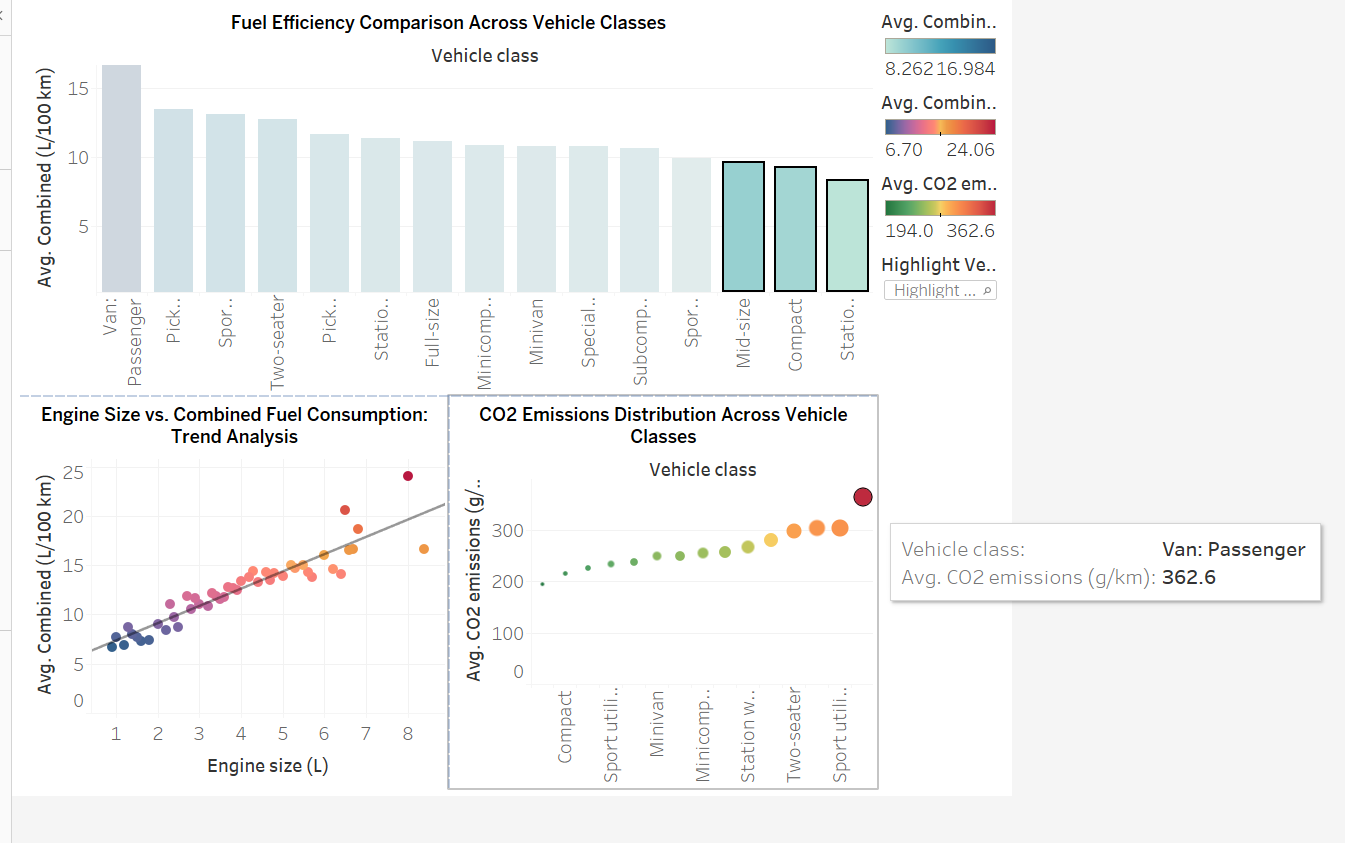

The dashboard page shown, as its layout file describes it:
{"tool":"tableau","page":{"name":"Dashboard 2","canvas":[1000,800],"ordinal":1},"visuals":[{"type":"worksheet","title":"ClassVsFuel","mark":"Automatic","rows":["Combined (L/100 km)"],"cols":["Vehicle class"],"box":[8,8,857,392]},{"type":"legend","title":"ClassVsFuel","param":"[federated.181tqhu1eriod412tfh271ls9q2b].[avg:Combined (L/100 km):qk]","box":[865,8,127,81]},{"type":"legend","title":"EsizeVsFuel","param":"[federated.181tqhu1eriod412tfh271ls9q2b].[avg:Combined (L/100 km):qk]","box":[865,89,127,81]},{"type":"legend","title":"ClassVsCo2","param":"[federated.181tqhu1eriod412tfh271ls9q2b].[avg:CO2 emissions (g/km):qk]","box":[865,170,127,81]},{"type":"highlighter","title":"ClassVsFuel","param":"[federated.181tqhu1eriod412tfh271ls9q2b].[none:Vehicle class:nk]","box":[865,251,127,60]},{"type":"worksheet","title":"EsizeVsFuel","mark":"Circle","rows":["Combined (L/100 km)"],"cols":["Engine size (L)"],"box":[8,400,428.5,392]},{"type":"worksheet","title":"ClassVsCo2","mark":"Circle","rows":["CO2 emissions (g/km)"],"cols":["Vehicle class"],"box":[436.5,400,428.5,392]}]}

Visuals, with their boxes on the page's 1000x800 design canvas (x1, y1, x2, y2). These are canvas units, not pixel positions in the 1345x843 screenshot, which may show the page scaled, cropped or inside an application window:
"ClassVsFuel" worksheet: <box>8,8,865,400</box>
"ClassVsFuel" legend: <box>865,8,992,89</box>
"EsizeVsFuel" legend: <box>865,89,992,170</box>
"ClassVsCo2" legend: <box>865,170,992,251</box>
"ClassVsFuel" highlighter: <box>865,251,992,311</box>
"EsizeVsFuel" worksheet (Circle marks): <box>8,400,436,792</box>
"ClassVsCo2" worksheet (Circle marks): <box>436,400,865,792</box>
